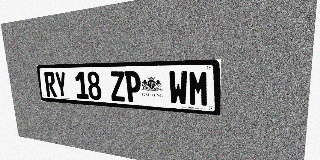1: (74, 72, 89, 99)
8: (87, 71, 102, 100)
M: (188, 70, 209, 107)
P: (124, 71, 142, 103)
R: (44, 72, 57, 97)
W: (168, 71, 188, 106)
Y: (54, 72, 68, 98)
Z: (109, 71, 126, 102)
